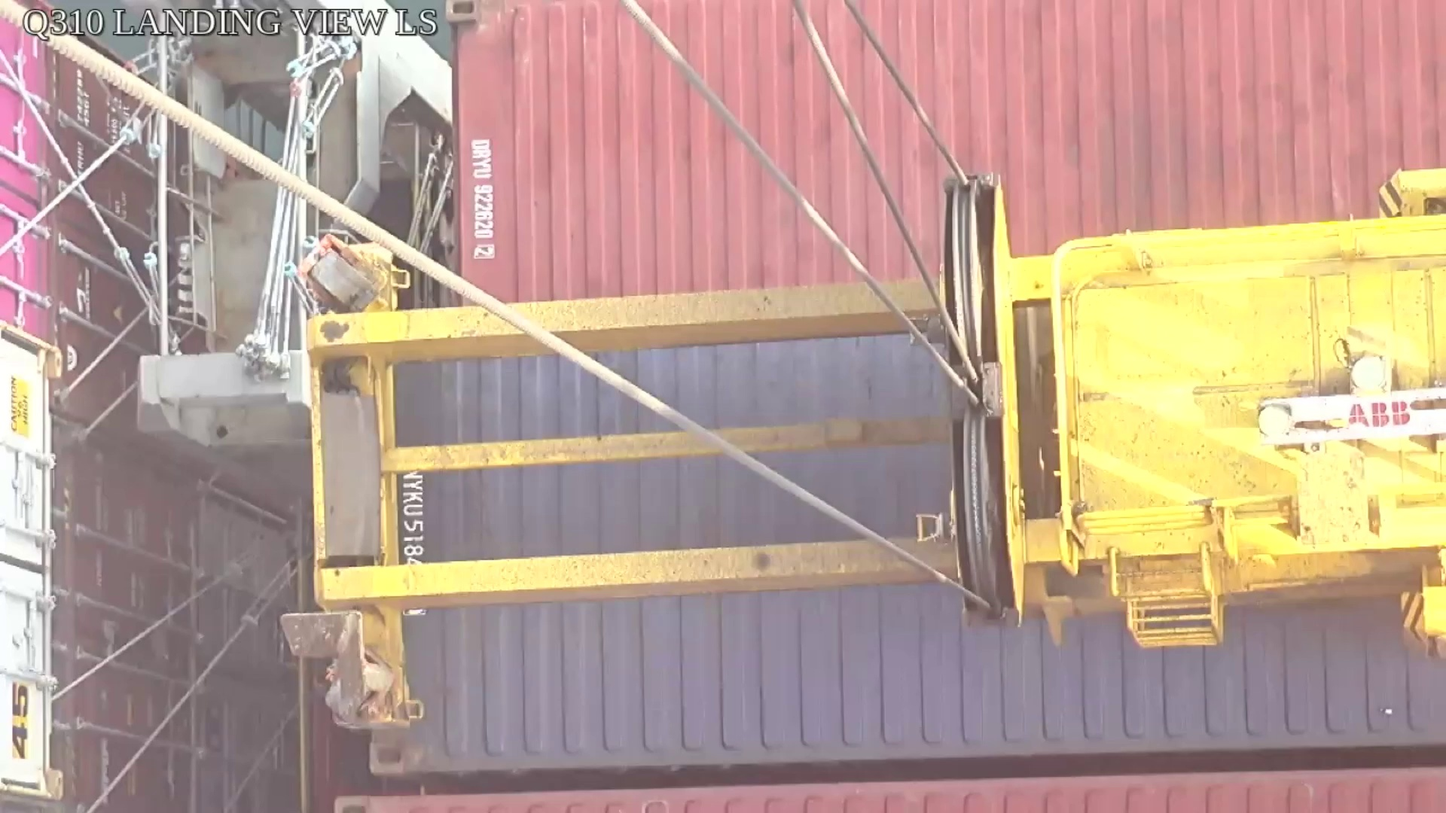aa: (937, 173, 1031, 630)
